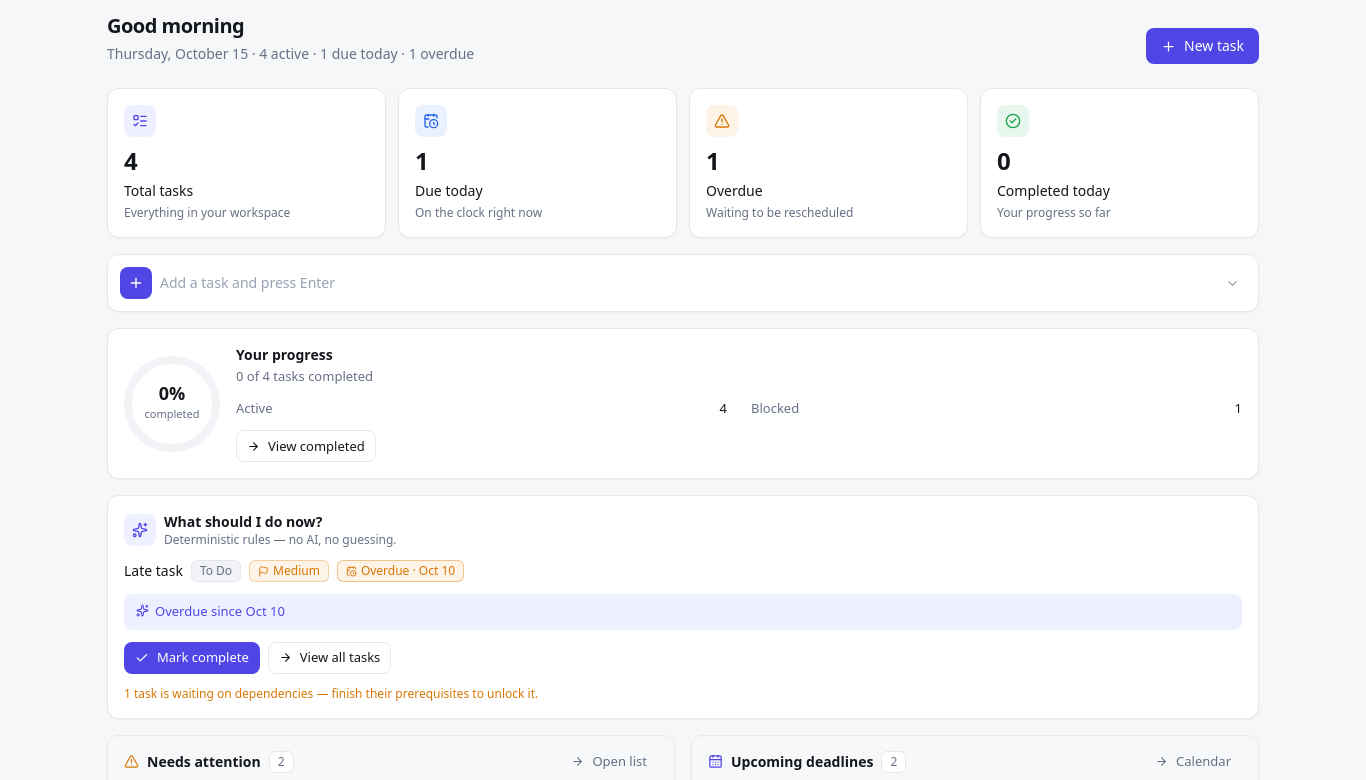
Scenario: what should I do now (G5) › completes the suggested task and moves to the next one
Click the button "Mark complete": [192, 658] box [124, 642, 260, 674]
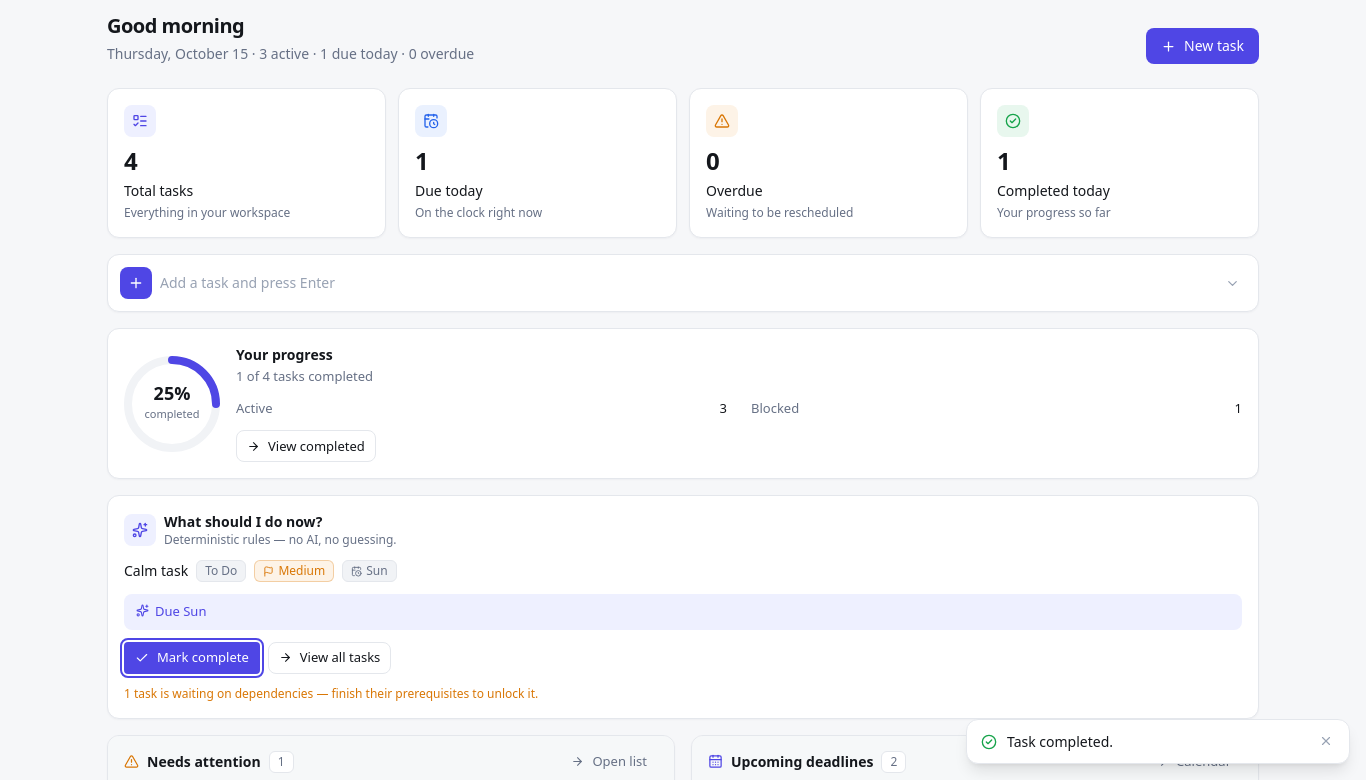
Expected: the text "completed" is shown, [144, 406, 200, 423]
Expected: the button "Calm task" is shown, [124, 561, 188, 581]
